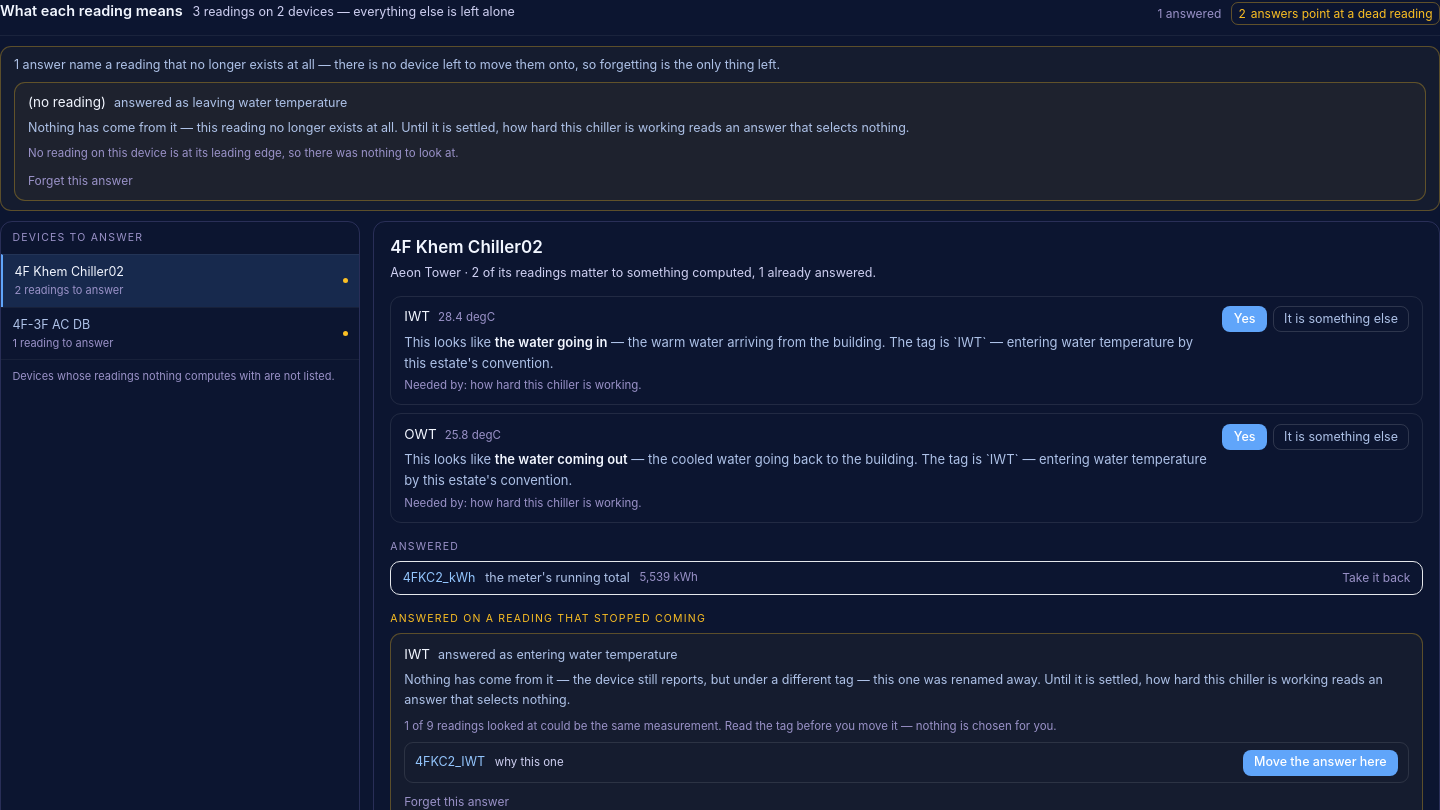
Test case: the worklist › moves to another device when it is picked
Step 1. Click the button "4F-3F AC DB 1 reading to answer" → x=51, y=324, box [1,307,359,359]
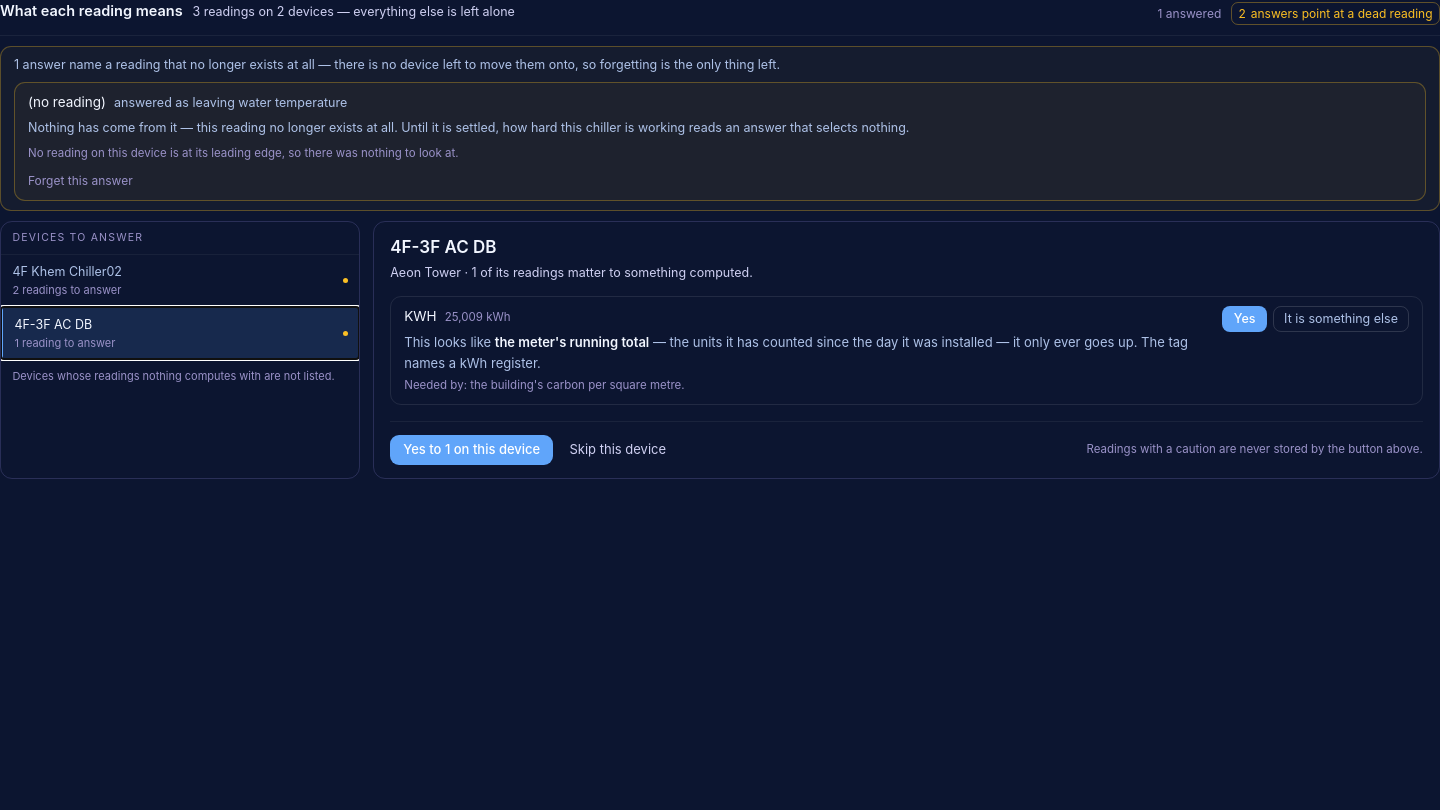
Check: the heading "4F-3F AC DB" is shown, box [390,237,496,257]
Check: the text "the tag names a kWh register" is shown, box [404,334,1188,371]
